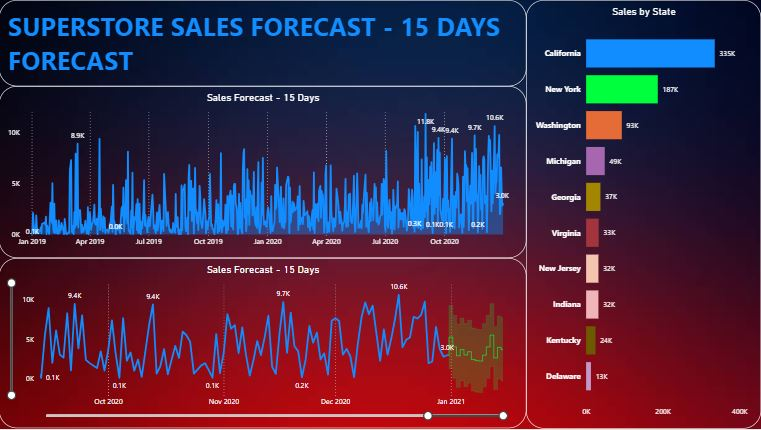

What the dashboard file says about the page in this screenshot:
{"tool":"powerbi","page":{"name":"FORECAST","canvas":[1280,720],"ordinal":1},"visuals":[{"type":"lineChart","title":"Sales Forecast - 15 Days","fields":{"Y":["Sum(Sheet1.Sales)"],"Category":["Sheet1.Order Date"]},"box":[0,433.9,885.7,285.7],"z":0},{"type":"areaChart","title":"Sales Forecast - 15 Days","fields":{"Y":["Sum(Sheet1.Sales)"],"Category":["Sheet1.Order Date"]},"box":[0,144.6,885.7,289.3],"z":1},{"type":"textbox","box":[0,0,885.7,144.6],"z":2},{"type":"barChart","title":"Sales by State","fields":{"Category":["Sheet1.State"],"Y":["Sum(Sheet1.Sales)"]},"box":[885.7,0,394.6,719.6],"z":3}]}

Visuals, with their boxes in screenshot pixels (x1, y1, x2, y2), scaled from the page's 1280x720 canvas onto the 761x430 screenshot:
"Sales Forecast - 15 Days" lineChart: 0, 259, 527, 429
"Sales Forecast - 15 Days" areaChart: 0, 86, 527, 259
textbox: 0, 0, 527, 86
"Sales by State" barChart: 527, 0, 760, 429
